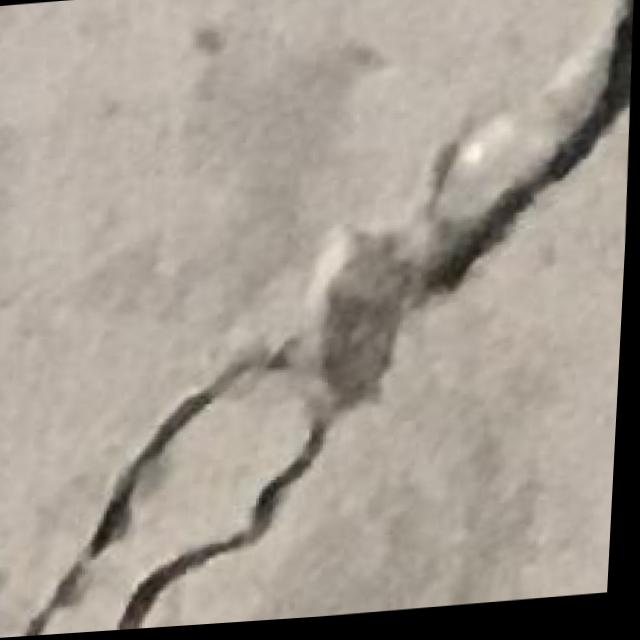Crack: (5, 0, 636, 638)
